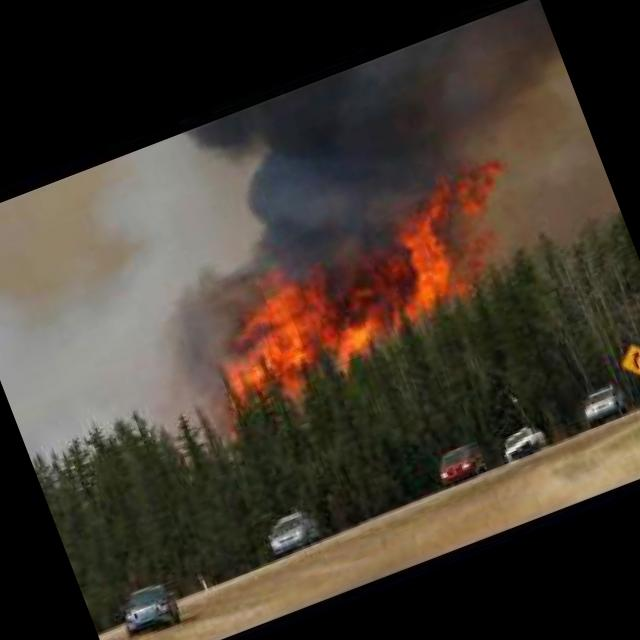fire: (185, 170, 529, 400)
smoke: (166, 0, 595, 288), (128, 241, 284, 386)
